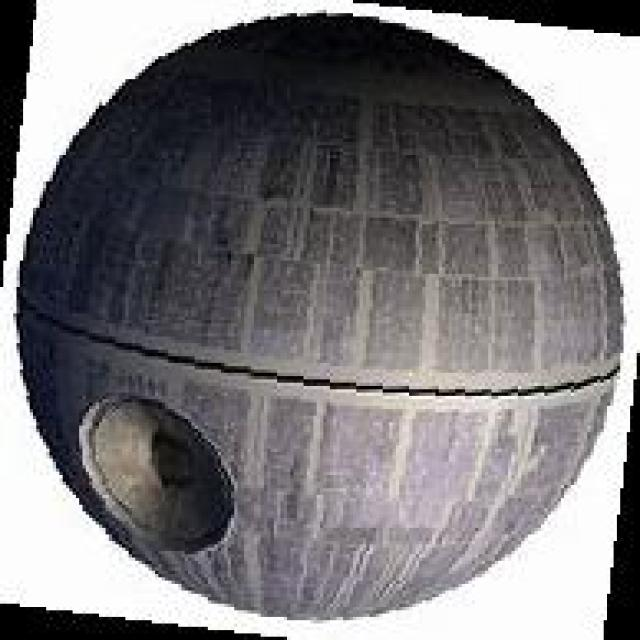Death Star: (40, 9, 629, 615)
